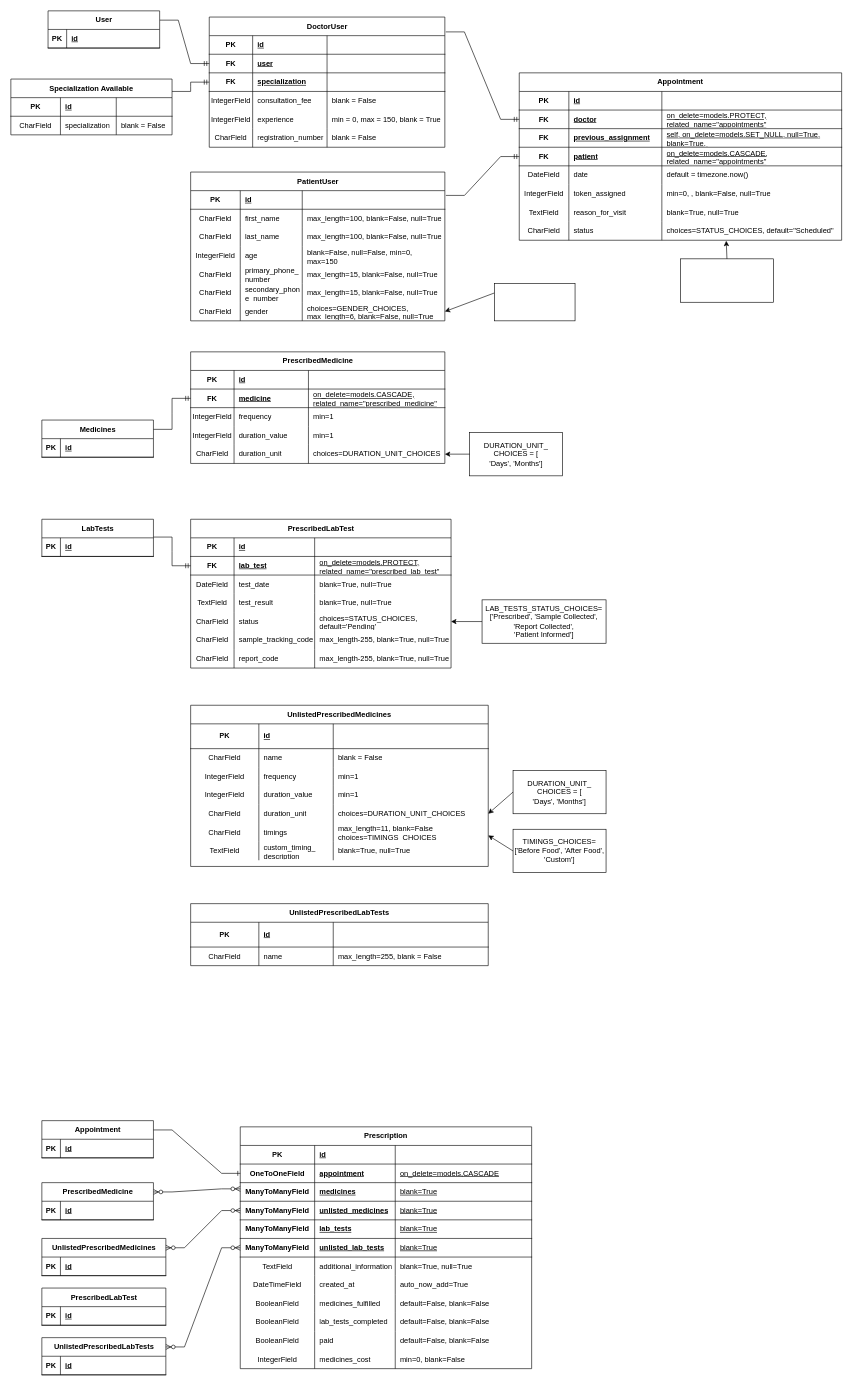
Some shapes in this 853 by 1386 pixel diagram are drawn without their labels. The centre of each missing label's shape, as x and y in pixels:
"GENDER_CHOICES= ['Male', 'Female', 'Other']" belongs at point (534, 302).
"STATUS_CHOICES= ['Scheduled', 'Completed', 'Cancelled', 'No Show' ]" belongs at point (726, 280).
